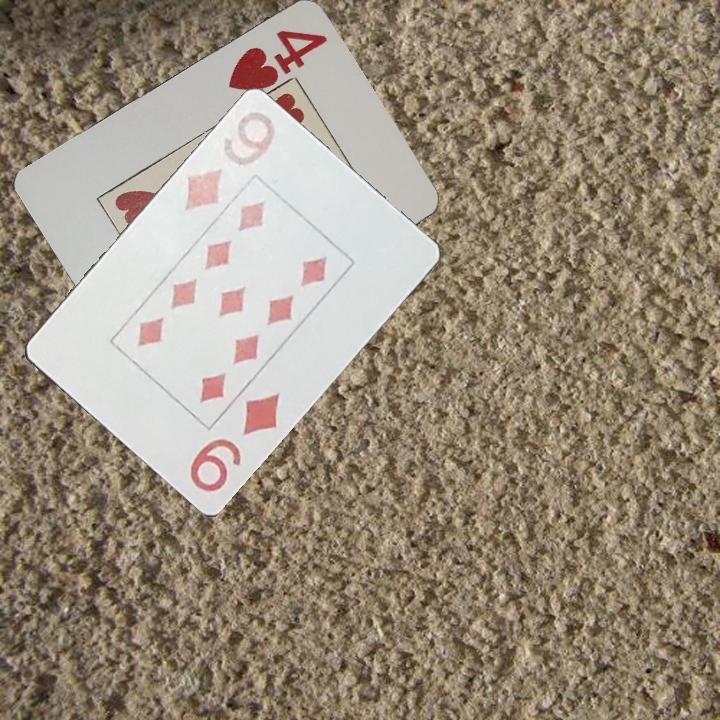4h: (224, 27, 331, 95)
9d: (180, 104, 279, 215), (183, 389, 284, 496)
